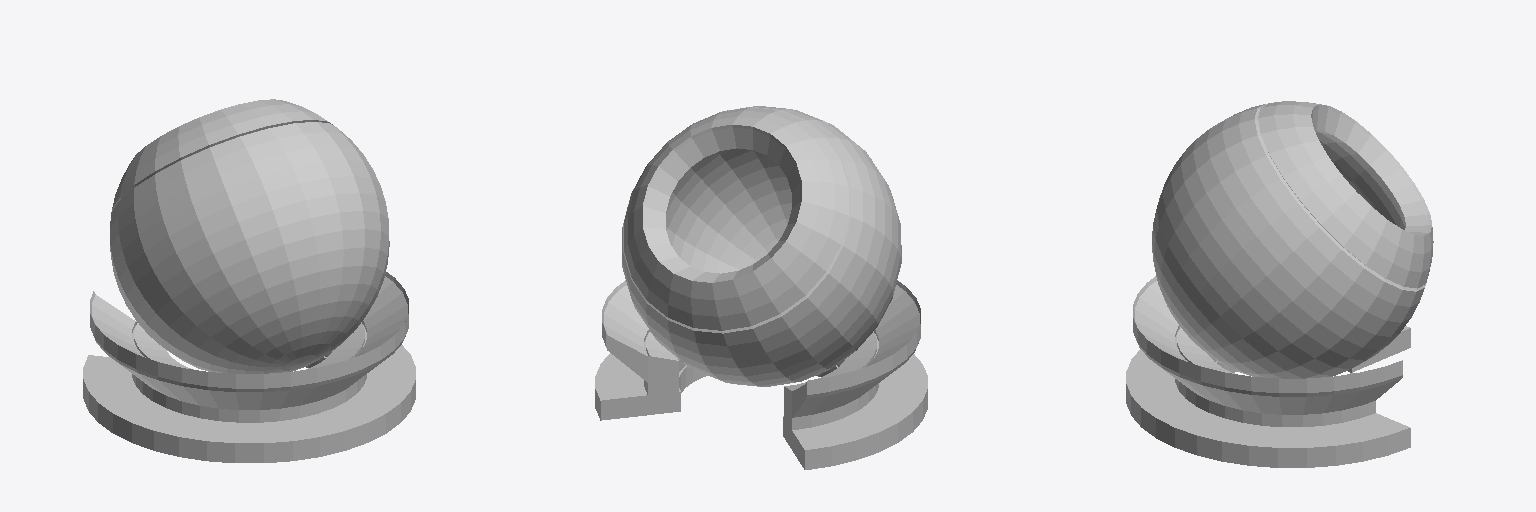
File: knob1.obj
The picture shows the model from 3 angles: view 1: azimuth 30°, elevation 25°; view 2: azimuth 150°, elevation 25°; view 3: azimuth 270°, elevation 25°; orthographic projection.
Parts seen in each view (by area): view 1: outer; view 2: outer; view 3: outer.
Boxes of the visible parts, <box> form: outer: <box>83,99,415,462</box>; outer: <box>595,106,927,469</box>; outer: <box>1126,101,1433,467</box>.
Bounding box in the file's own units: 1.08 × 1.02 × 0.9993.